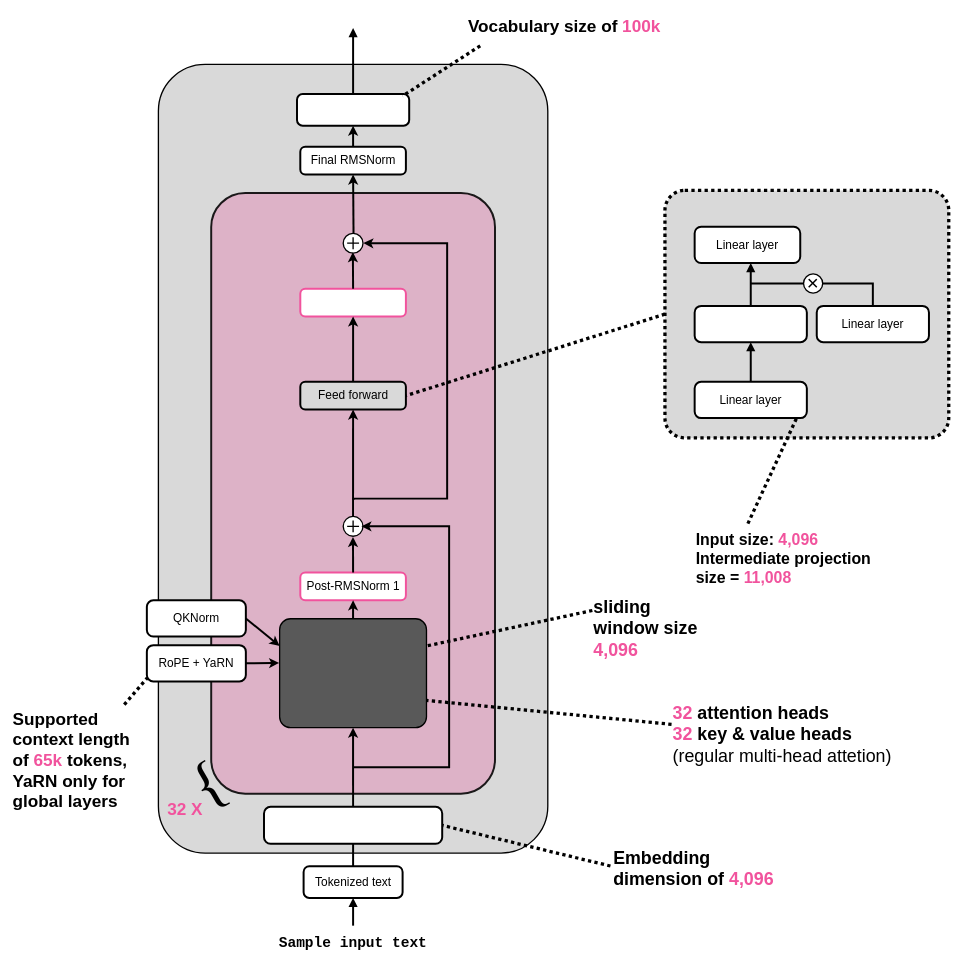
This 962x970 diagram has some shape labels left out. Each missing label, with the centre of its shape:
"3:1(local:global) sliding window grouped-query attention" goes at pixel 353 673.
"Linear output layer" goes at pixel 353 109.
"Post-RMSNorm 2" goes at pixel 353 302.
"SiLU activation" goes at pixel 750 324.
"Token embedding layer" goes at pixel 353 825.
